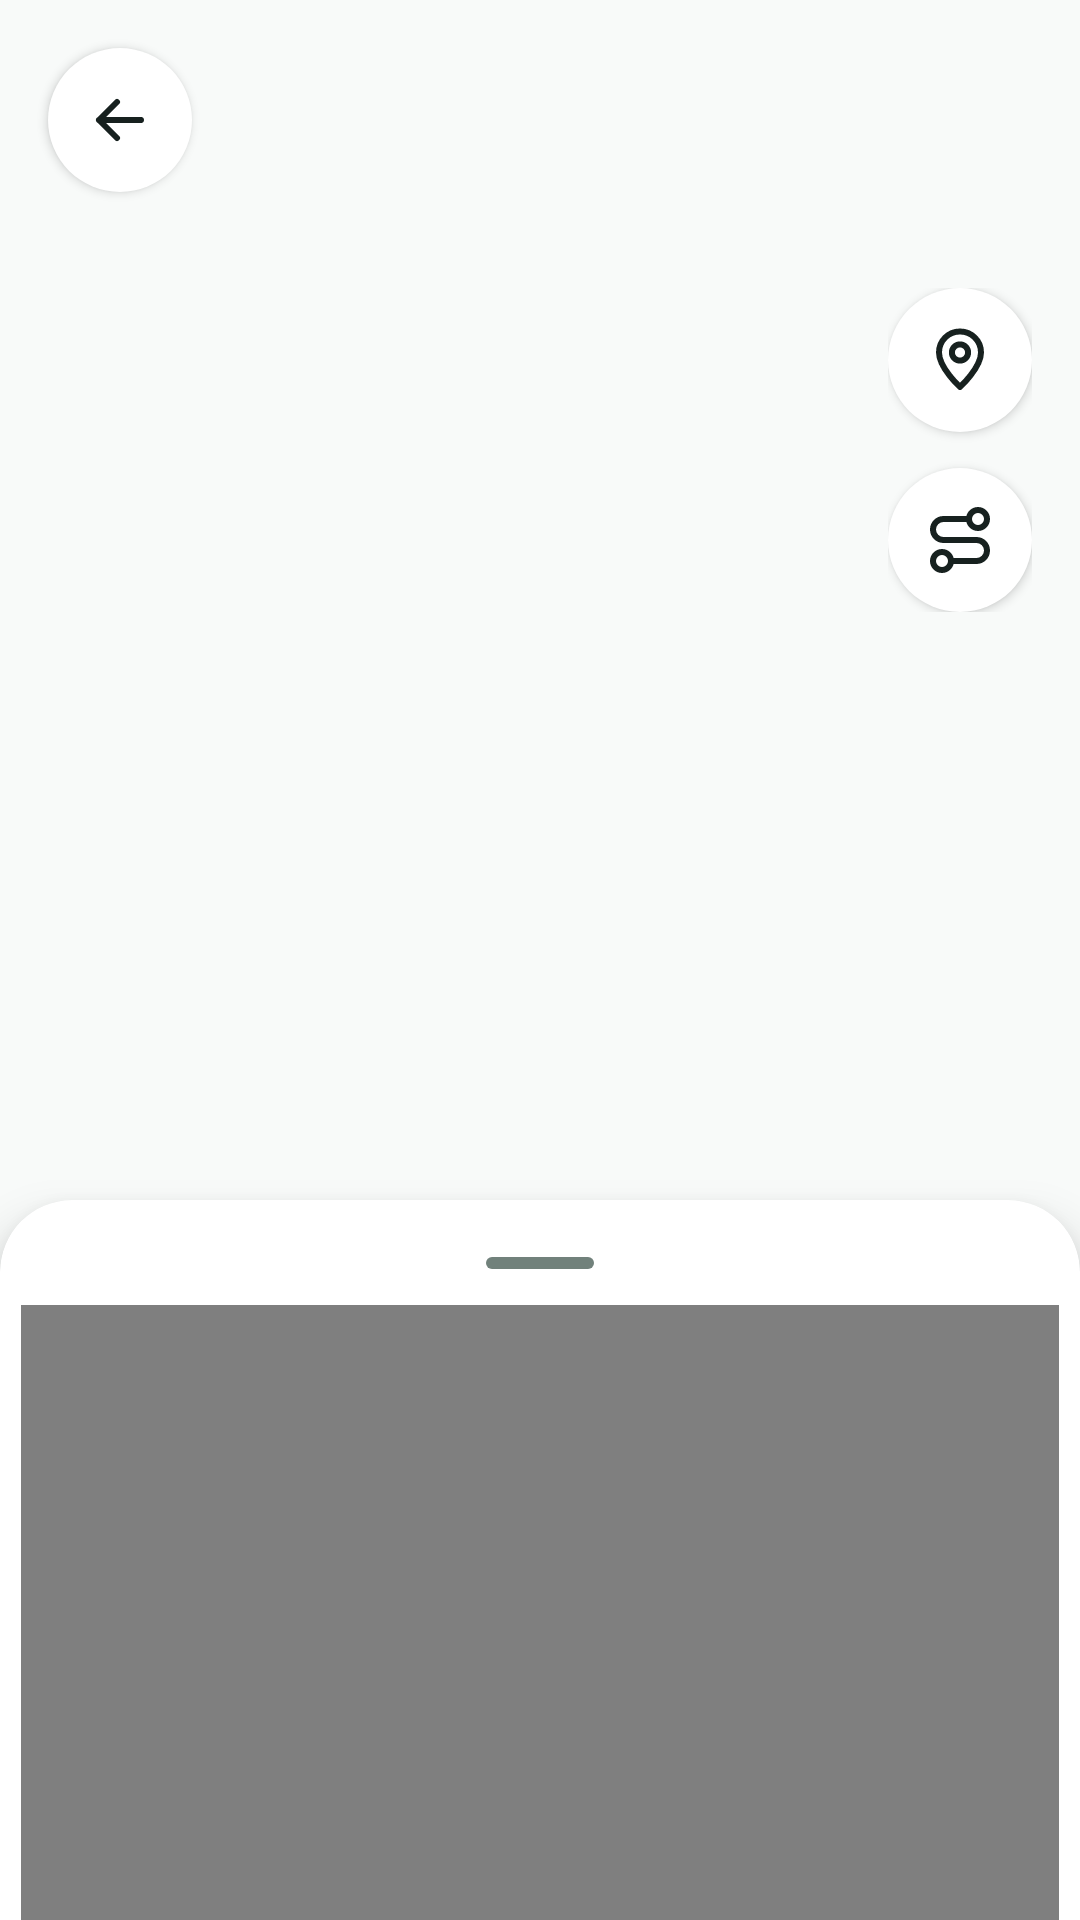

Icon click points for this 1080 x 1920 phone screenshot, format (x,y):
全覽路線: (977,559)
返回路線結果: (96,133)
顯示目前位置: (984,380)
